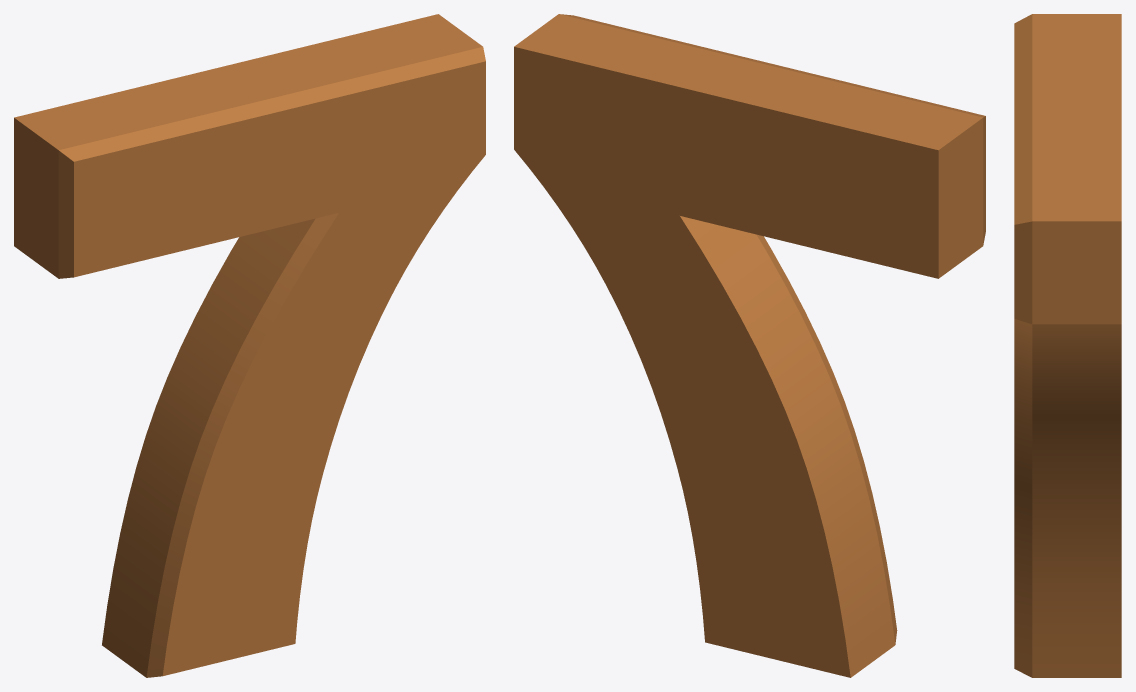
Rendered from number7.FBX.
The picture shows the model from 3 angles, left to right: view 1: azimuth 30°, elevation 25°; view 2: azimuth 150°, elevation 25°; view 3: azimuth 270°, elevation 25°; orthographic projection.
Visible parts, largest first — view 1: number 7; view 2: number 7; view 3: number 7.
Boxes of the visible parts, <box> form: number 7: <box>14,14,485,677</box>; number 7: <box>514,14,985,677</box>; number 7: <box>1014,14,1121,677</box>.
Bounding box in the file's own units: 1.62 × 0.3543 × 2.
